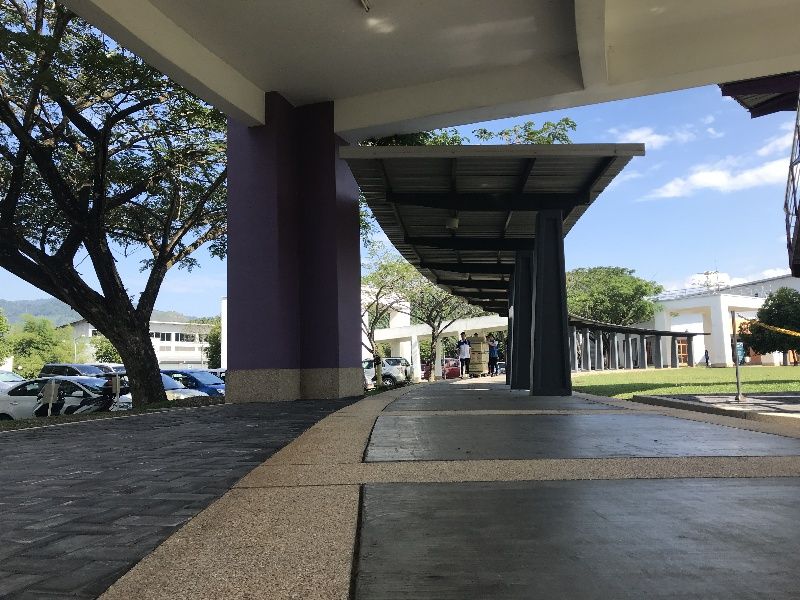Block D corridor: (1, 1, 792, 595)
pillar: (213, 81, 365, 401), (508, 202, 578, 400)
